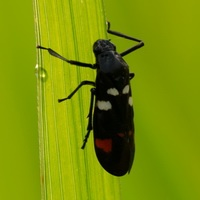insect: (37, 22, 143, 175)
